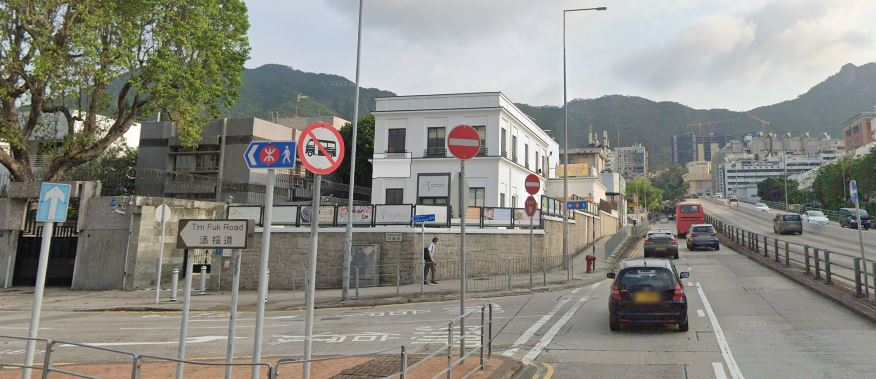No Car: (297, 121, 351, 176)
No Enter: (446, 122, 482, 163), (523, 172, 542, 197)
One Way Traffic: (33, 184, 73, 223)
Stop: (524, 198, 538, 218)
